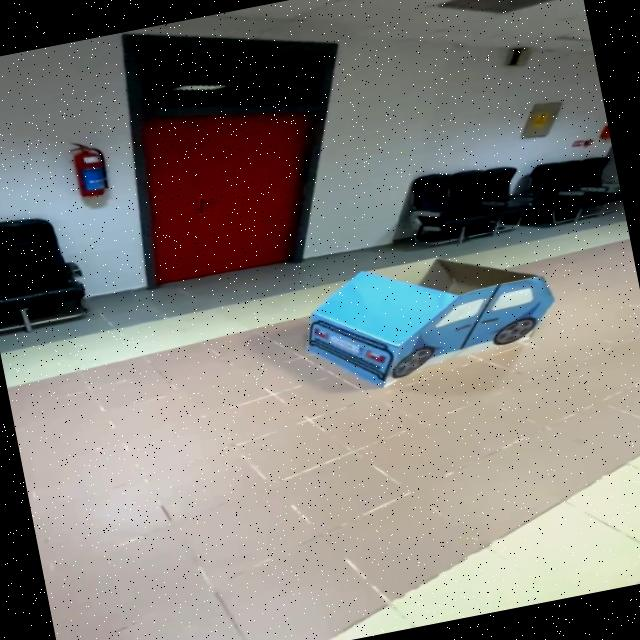blue_car: (262, 225, 594, 410)
